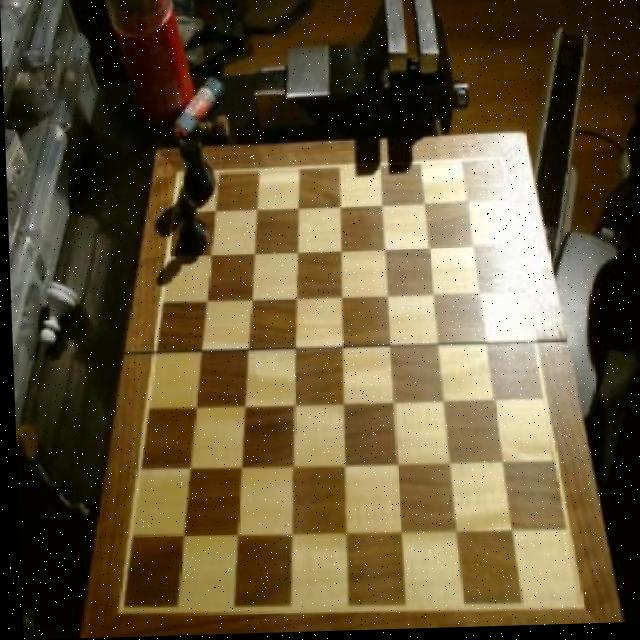black-knight: (175, 197, 211, 262)
black-queen: (178, 135, 217, 205)
